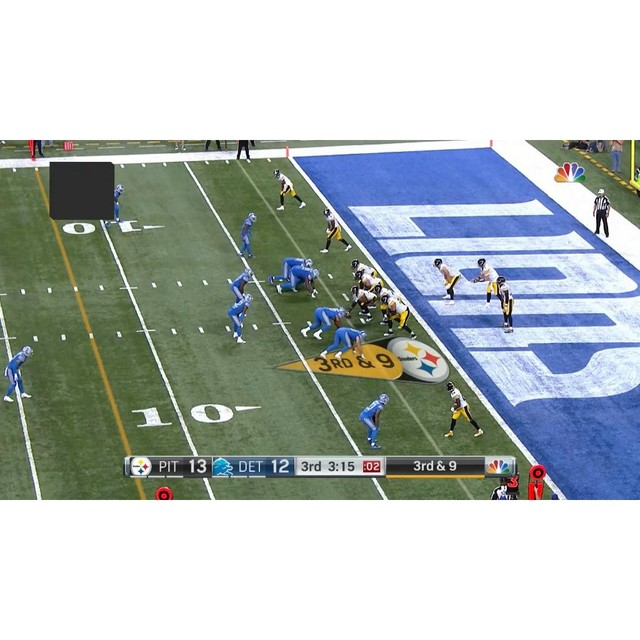american-football-player: (444, 380, 483, 438), (319, 326, 368, 365), (3, 345, 34, 402), (358, 393, 389, 450), (300, 306, 348, 340), (380, 293, 416, 338), (275, 264, 320, 298), (321, 207, 352, 252), (273, 168, 306, 210), (226, 294, 253, 344), (267, 256, 313, 284), (434, 257, 461, 302), (476, 257, 499, 306), (348, 286, 376, 323), (497, 275, 515, 331), (229, 268, 254, 304), (239, 212, 257, 258), (351, 258, 378, 281), (112, 184, 125, 222)
referee: (591, 187, 611, 238)
